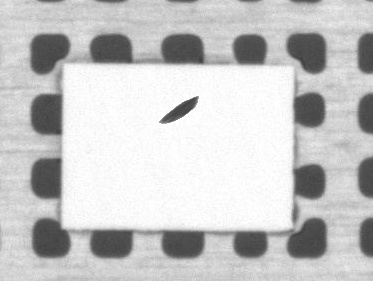DIE_INK: (207, 71, 267, 96)
